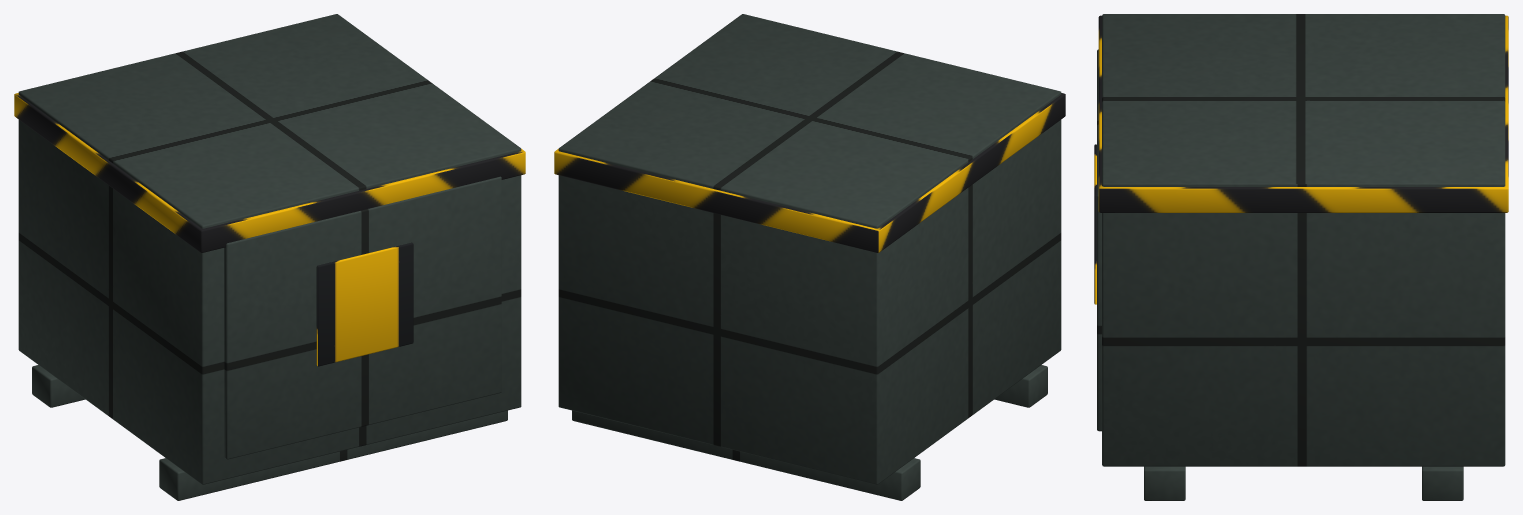
The model's file is WK_PROP_CRATE_A_01.glb.
The picture shows the model from 3 angles, left to right: view 1: azimuth 30°, elevation 25°; view 2: azimuth 150°, elevation 25°; view 3: azimuth 270°, elevation 25°; orthographic projection. The views are drawn at different scales.
Visible parts, largest first — view 1: WK_PROP_CRATE_A_01; view 2: WK_PROP_CRATE_A_01; view 3: WK_PROP_CRATE_A_01.
Part boxes in pixels (x1,y1,x2,y2): WK_PROP_CRATE_A_01: (14, 14, 525, 500); WK_PROP_CRATE_A_01: (554, 14, 1065, 500); WK_PROP_CRATE_A_01: (1094, 14, 1508, 500).
Size of the model in its own units: 1.2 by 1 by 1.19.
Materials: 3 (3 with a texture image).
